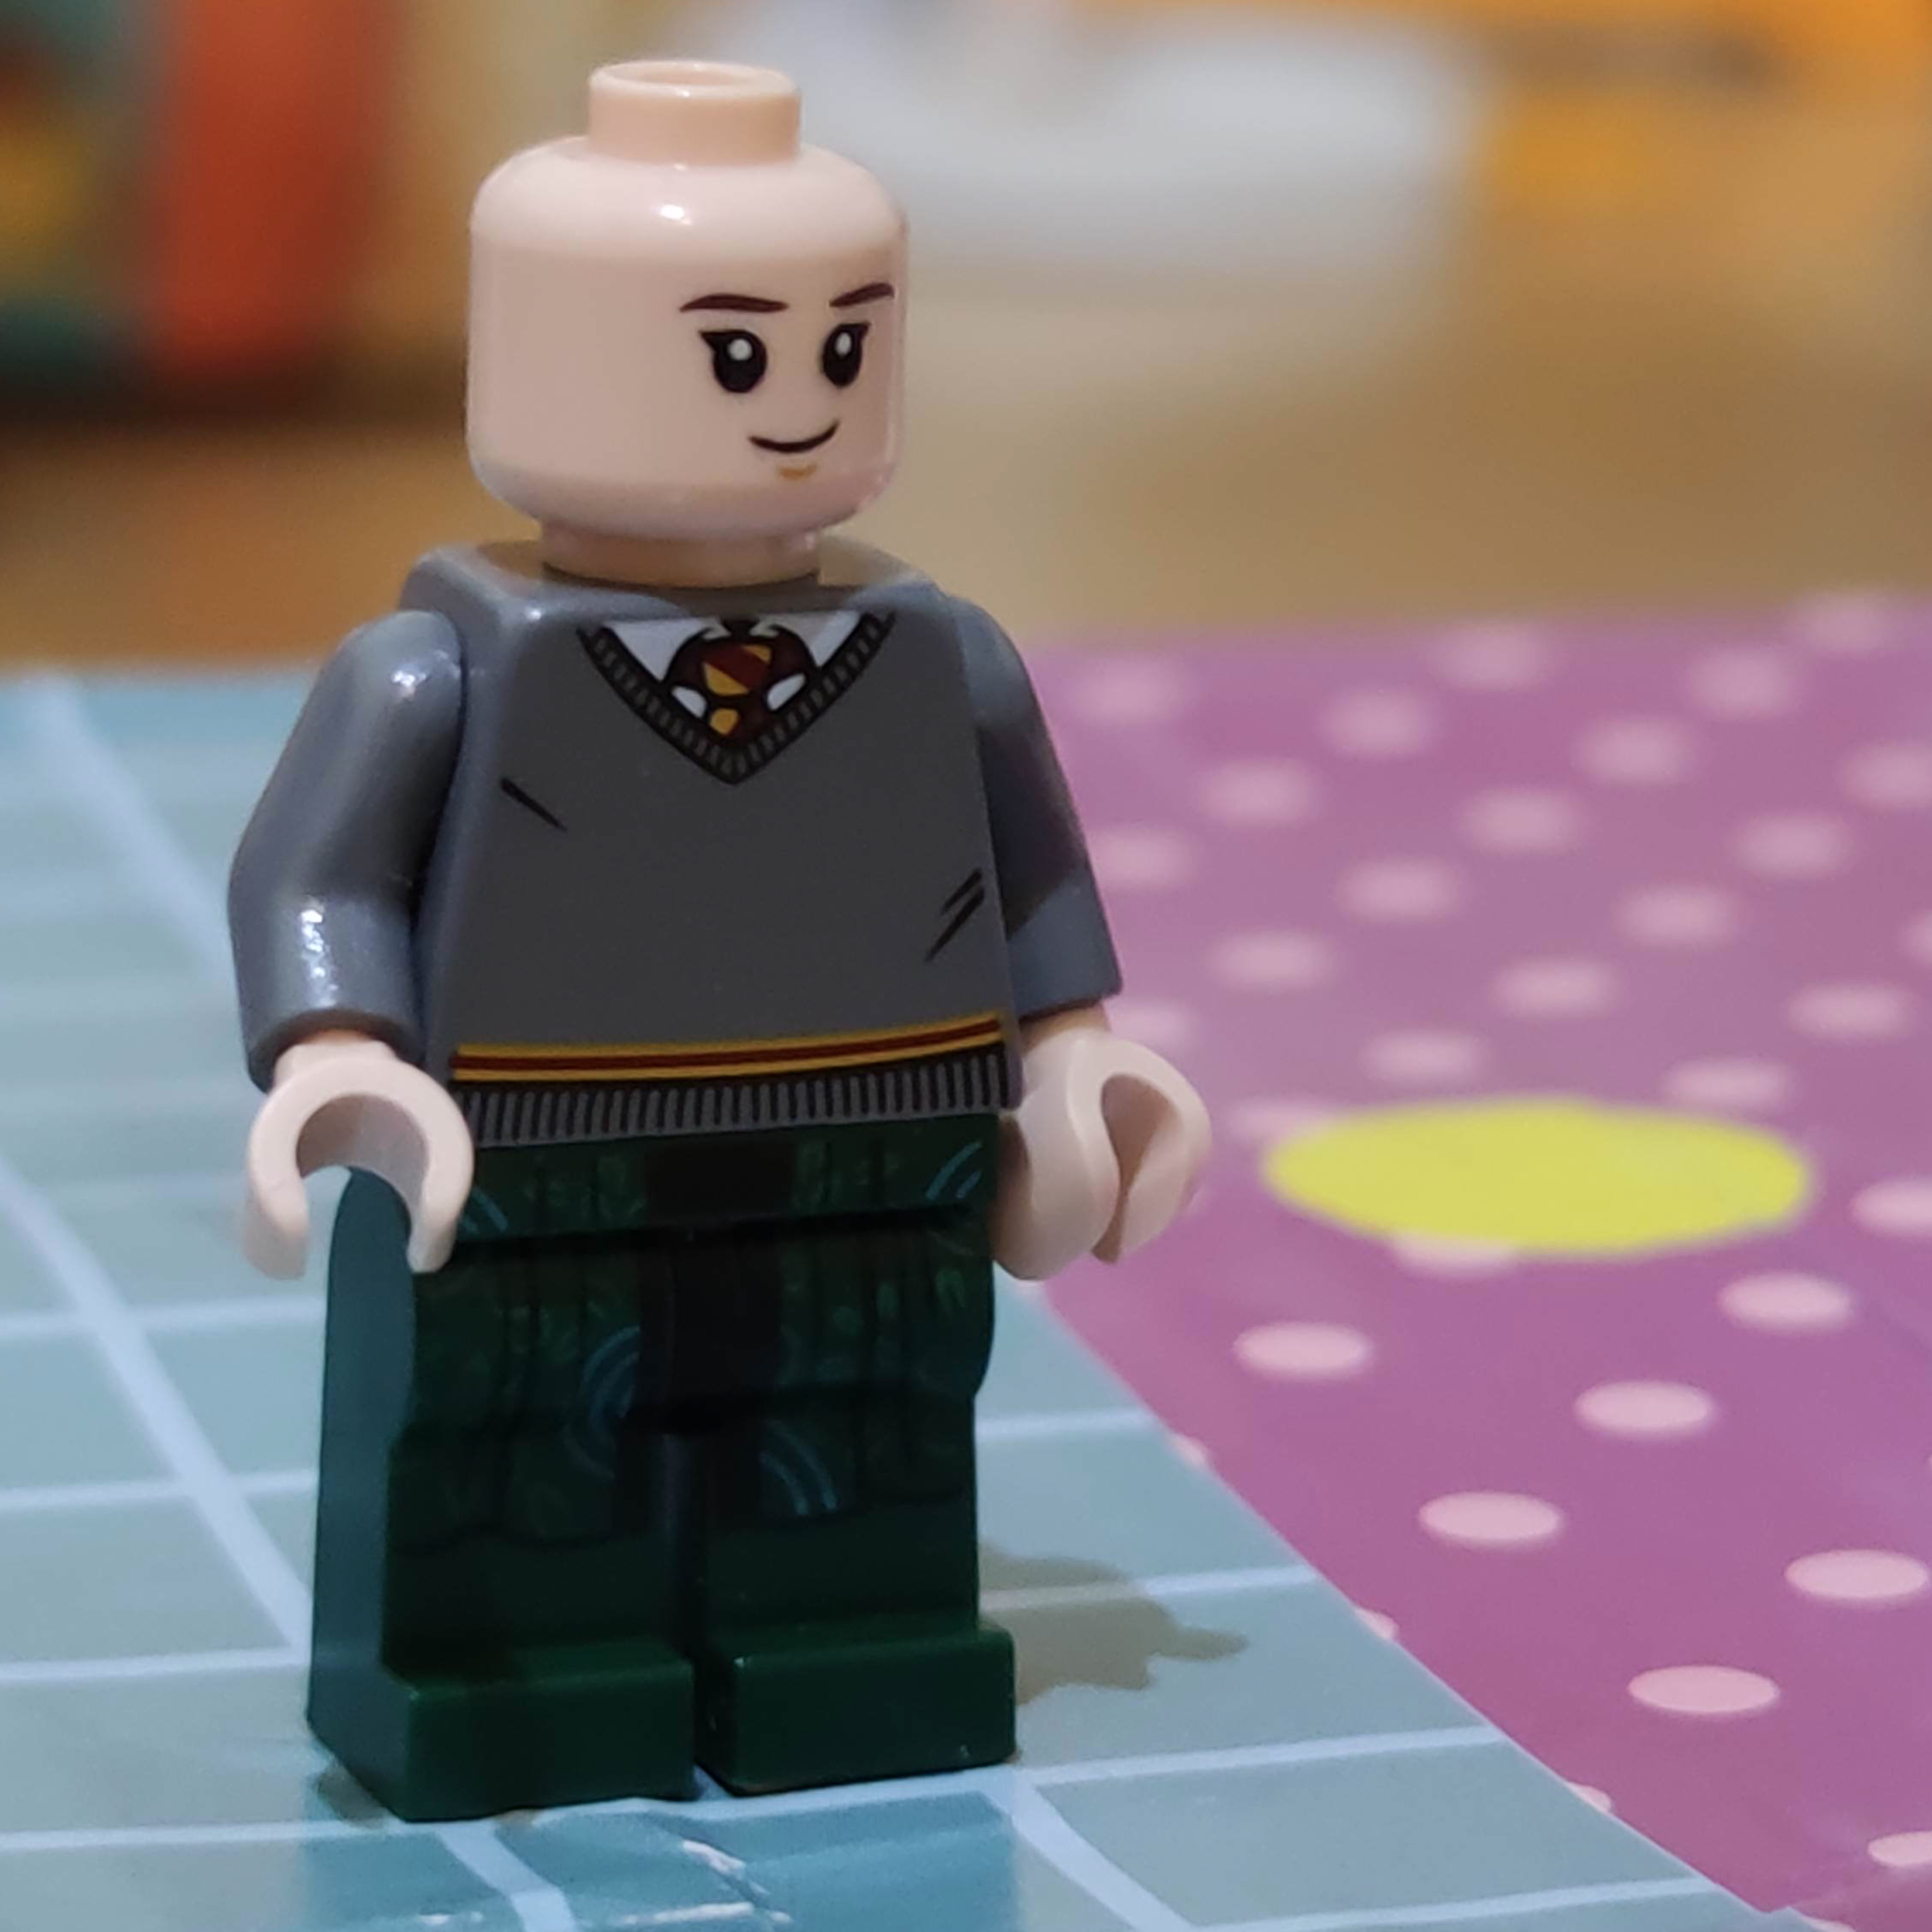lego: (226, 57, 1214, 1826)
